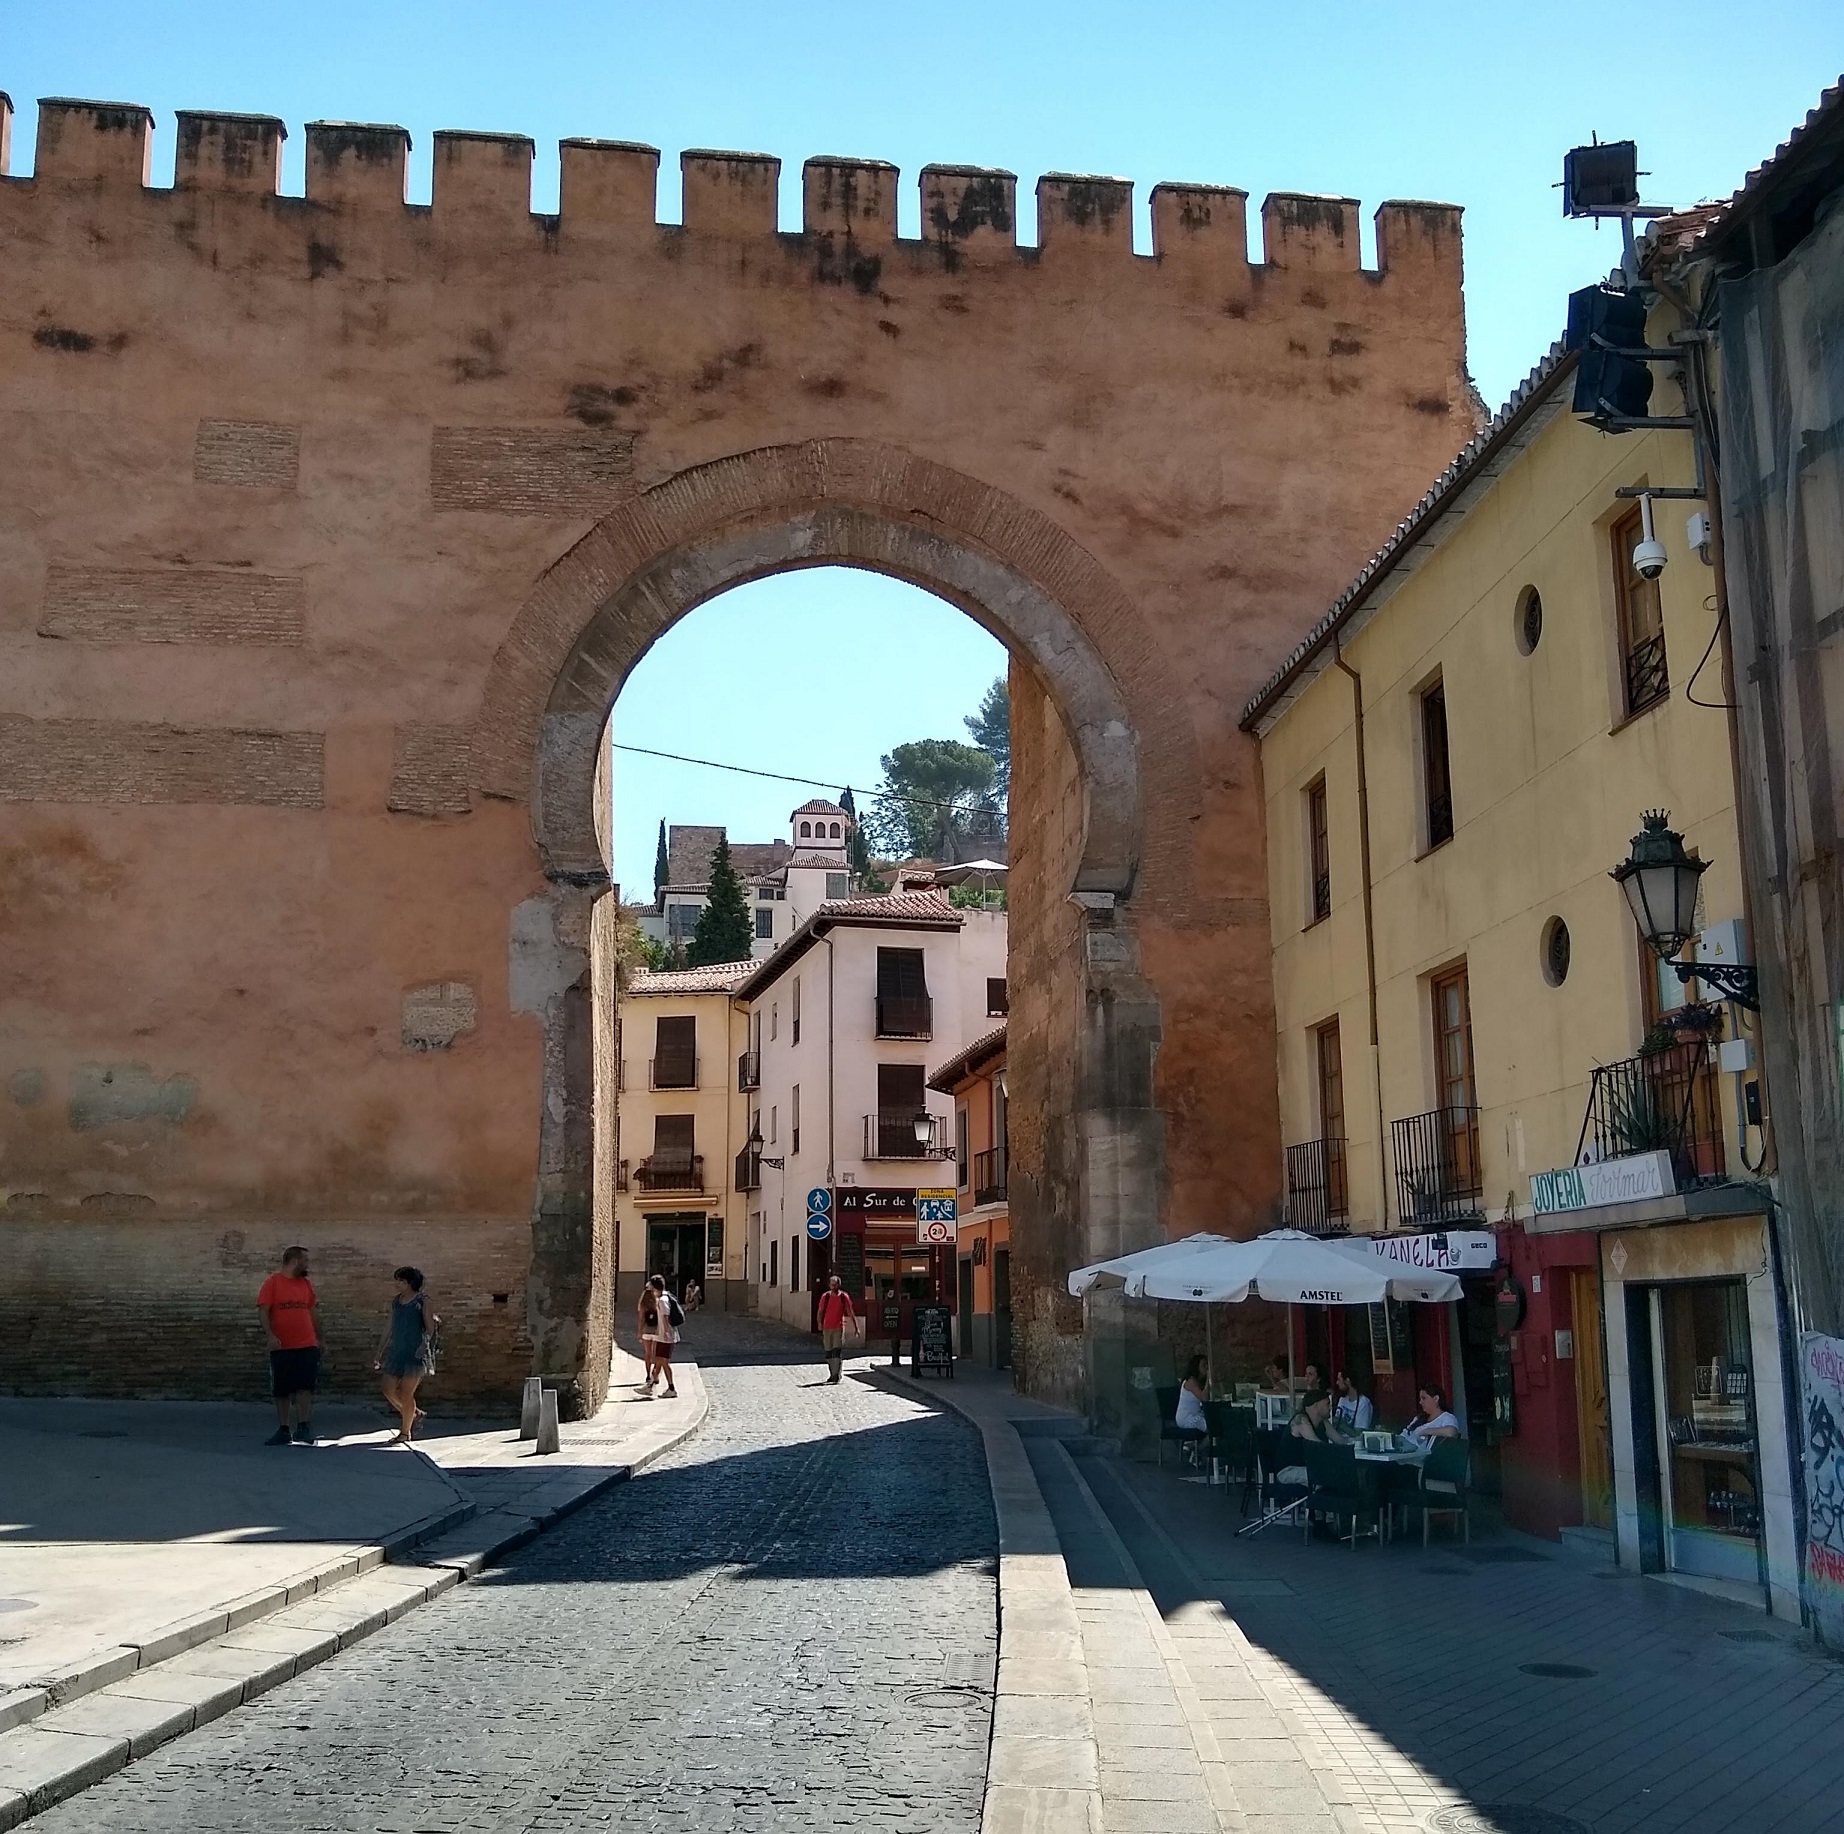arco-herradura: (564, 521, 1140, 949)
